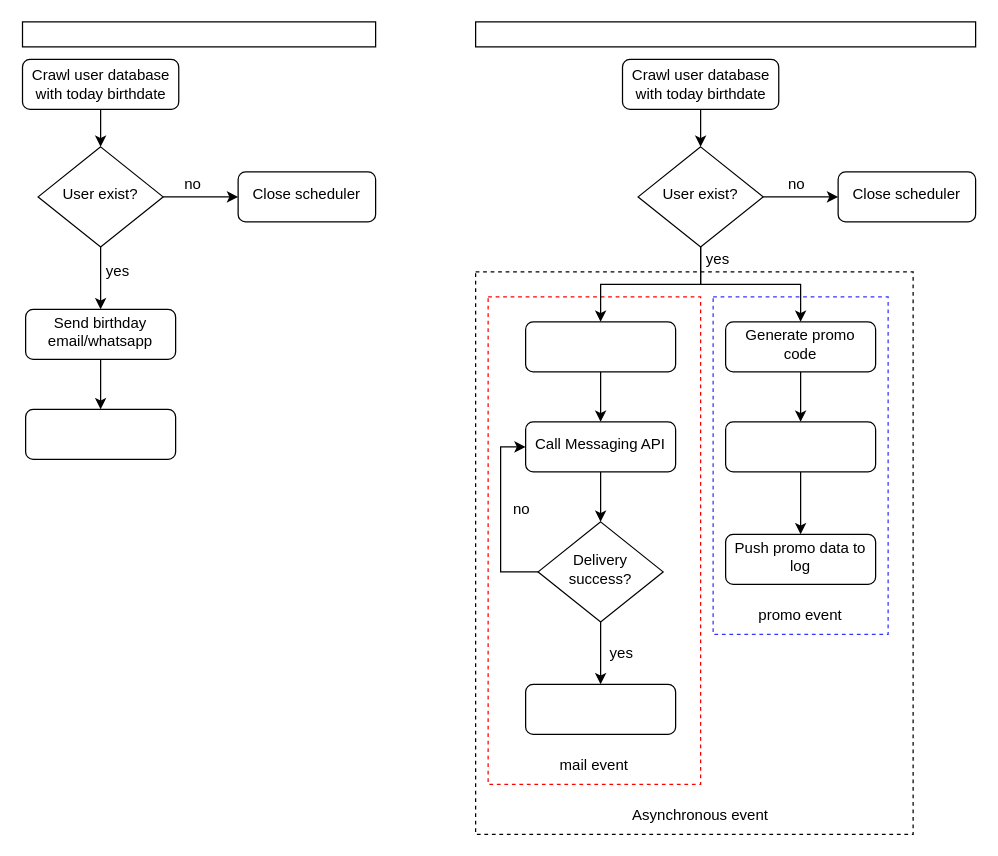
The diagram is 998 pixels wide and 856 high, and some of its shapes have lost their labels. Here are the shapes that lost their labels. From the top down, the centre of each, then its label:
point 198,34: High level flow
point 725,34: Low level flow
point 600,346: Retrieve user email/phone
point 100,433: Create birthday promo for user
point 800,446: Store promo code to database
point 600,708: Push messaging data to log
